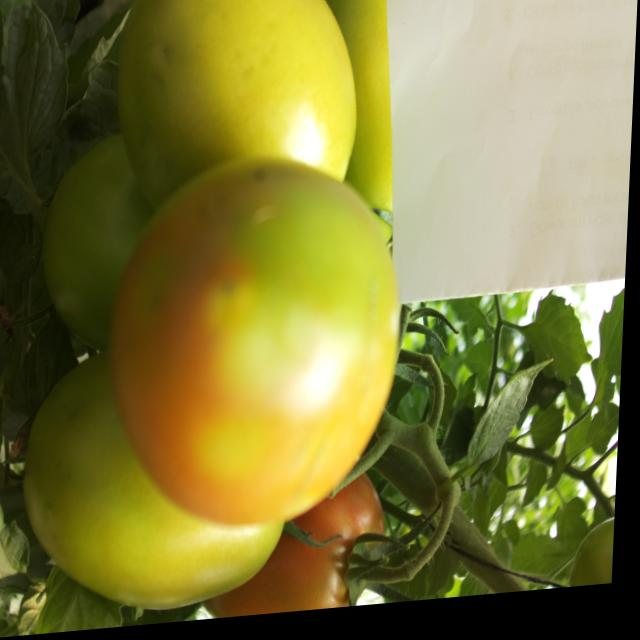sari: (54, 133, 443, 545)
